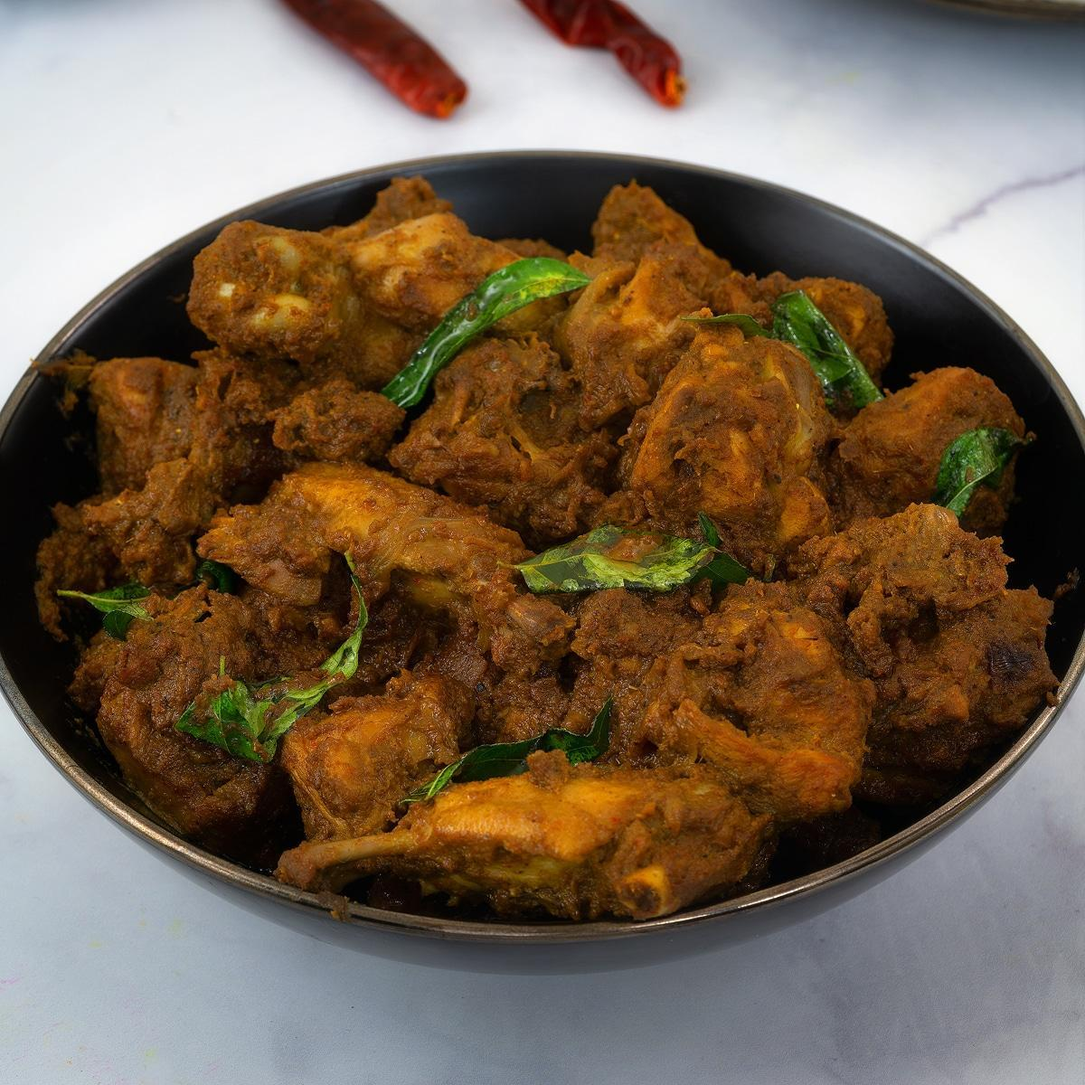chicken: (63, 267, 1034, 862)
